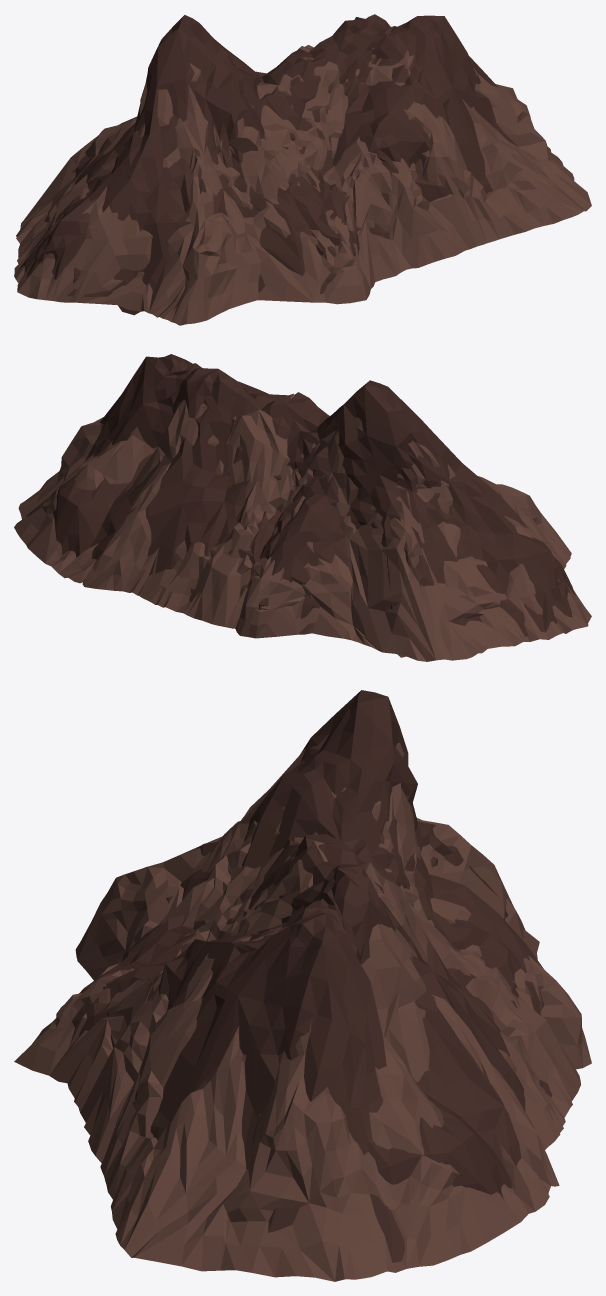
Rendered from brown_mountain_003.fbx.
3 renders of one model, top to bottom at view 1: azimuth 30°, elevation 25°; view 2: azimuth 150°, elevation 25°; view 3: azimuth 270°, elevation 25°, orthographic. The views are drawn at different scales.
Visible parts, largest first — view 1: brown_mountain_003; view 2: brown_mountain_003; view 3: brown_mountain_003.
Part boxes in pixels (x1,y1,x2,y2): brown_mountain_003: (14, 14, 591, 325); brown_mountain_003: (14, 354, 591, 661); brown_mountain_003: (14, 690, 591, 1281).
Bounding box in the file's own units: 14064 × 8426 × 5367.
